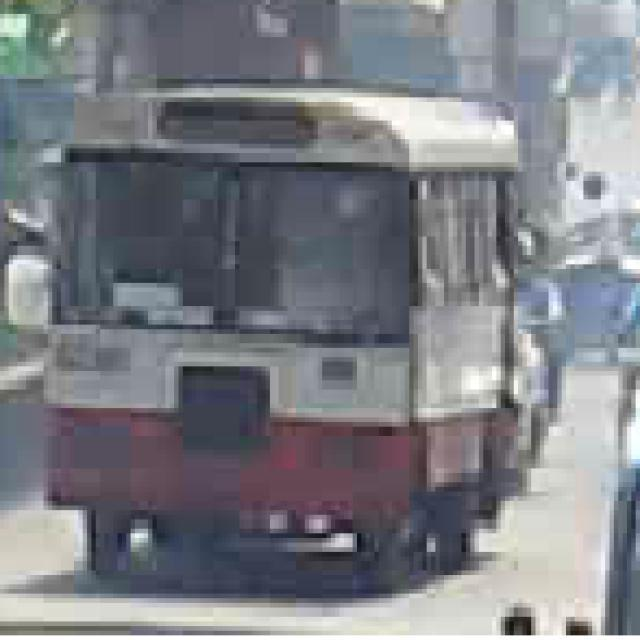bus_front: (42, 79, 529, 582)
